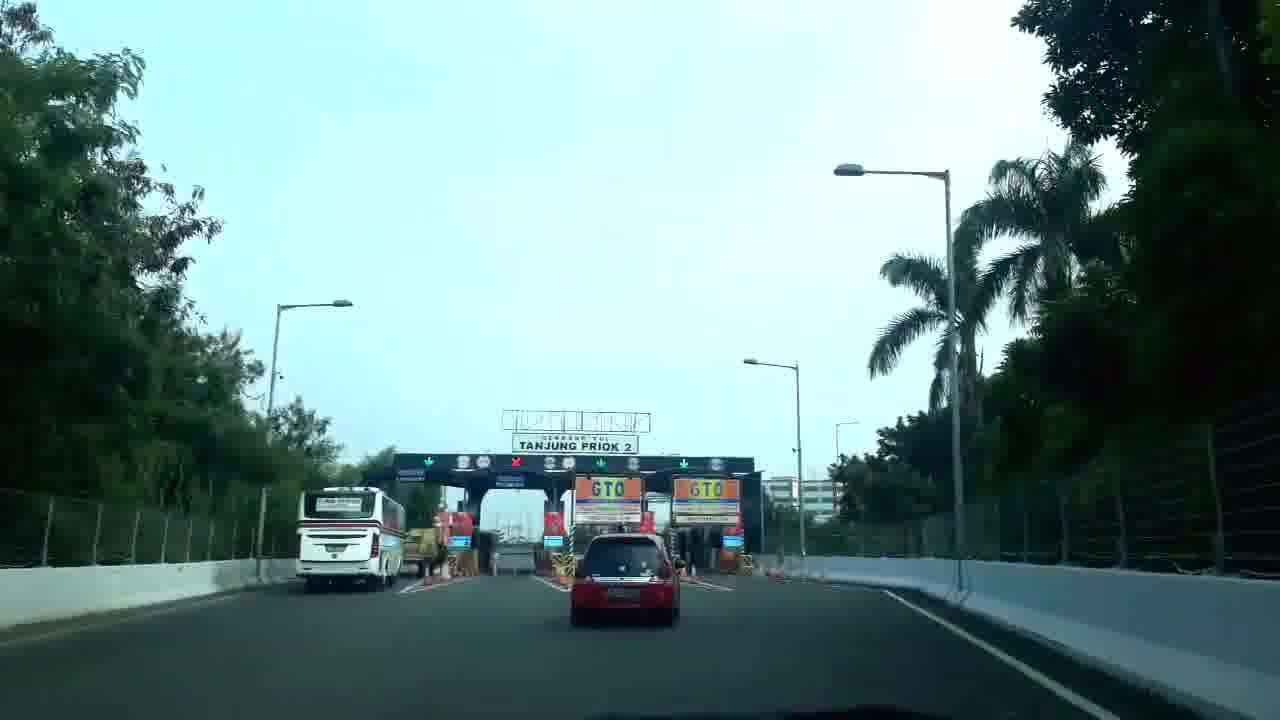plate_positive: (607, 587, 641, 599)
